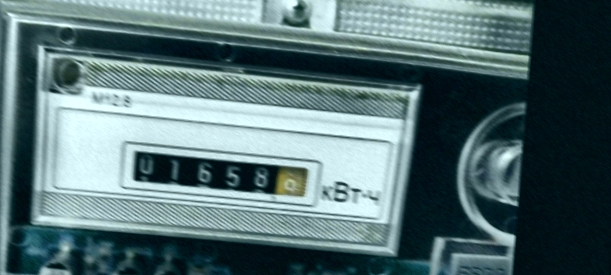0: (136, 151, 155, 173)
1: (166, 154, 182, 179)
5: (224, 161, 242, 186)
6: (195, 158, 215, 183)
8: (252, 163, 270, 187)
9: (280, 174, 298, 196)
screen: (116, 135, 326, 210)
